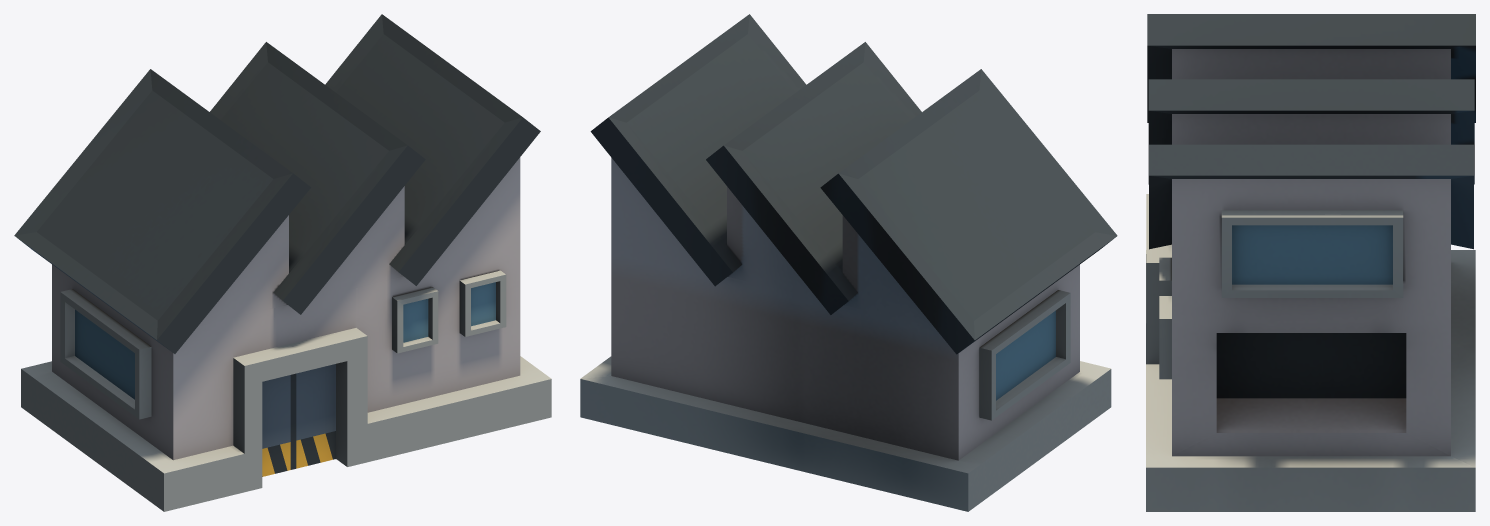
The model's file is depot.glb.
3 renders of one model, left to right at view 1: azimuth 30°, elevation 25°; view 2: azimuth 150°, elevation 25°; view 3: azimuth 270°, elevation 25°, orthographic. The views are drawn at different scales.
Visible parts, largest first — view 1: factory; view 2: factory; view 3: factory.
Boxes of the visible parts, x1,y1,x2,y2 form: factory: (14,14,551,511); factory: (580,14,1117,511); factory: (1146,14,1475,511).
Bounding box in the file's own units: 1.47 × 1.09 × 0.9253.
1 material, 1 textured.
